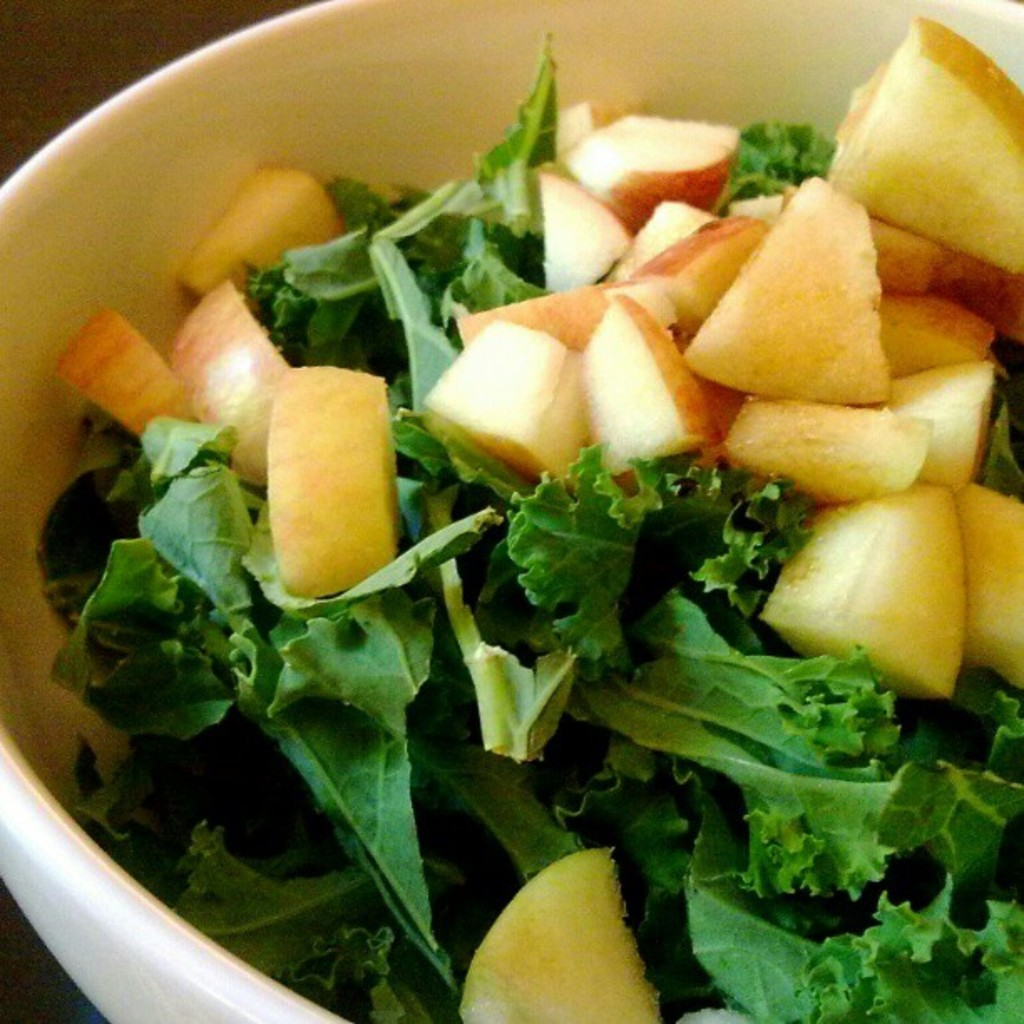Apple: (53, 10, 1022, 707), (670, 180, 906, 404), (458, 846, 667, 1022)
